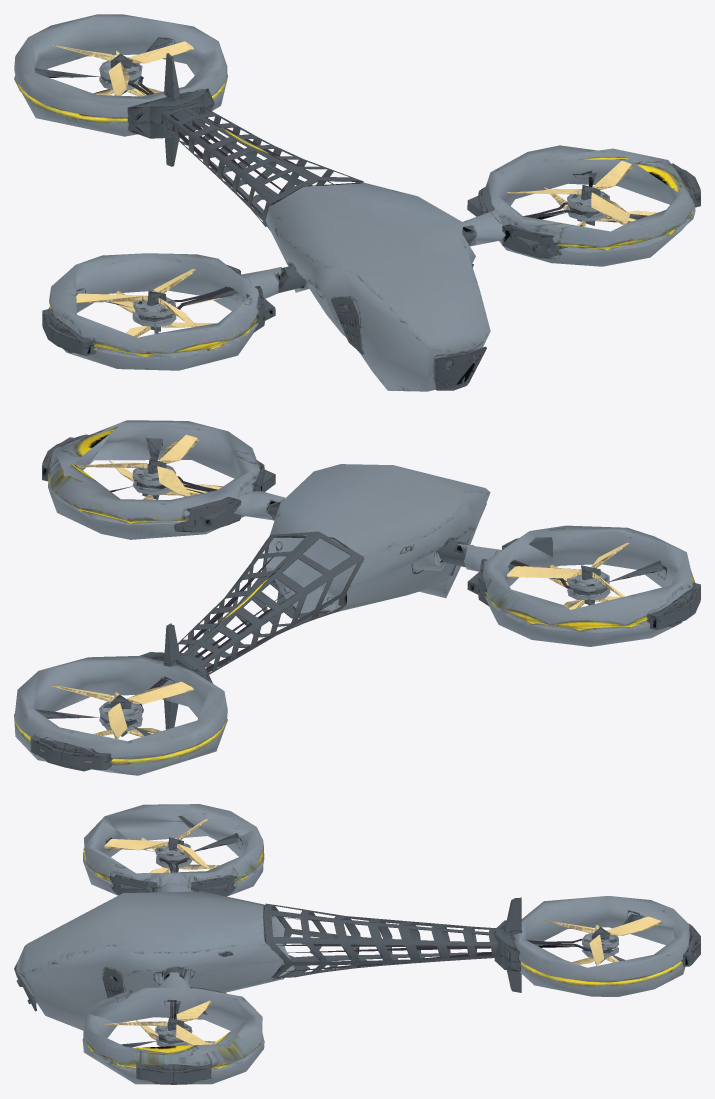
File: aerostat.glb
3 renders of one model, top to bottom at view 1: azimuth 30°, elevation 25°; view 2: azimuth 150°, elevation 25°; view 3: azimuth 270°, elevation 25°, orthographic. The views are drawn at different scales.
Parts seen in each view (by area): view 1: Sci-Fi Surveillance Drone_Sci-Fi Surveillance Drone_0; view 2: Sci-Fi Surveillance Drone_Sci-Fi Surveillance Drone_0; view 3: Sci-Fi Surveillance Drone_Sci-Fi Surveillance Drone_0.
Boxes of the visible parts, bbox=[...] form: Sci-Fi Surveillance Drone_Sci-Fi Surveillance Drone_0: bbox=[14, 14, 700, 391]; Sci-Fi Surveillance Drone_Sci-Fi Surveillance Drone_0: bbox=[14, 420, 700, 775]; Sci-Fi Surveillance Drone_Sci-Fi Surveillance Drone_0: bbox=[14, 804, 700, 1084].
Size of the model in its own units: 11.76 by 2.6 by 12.88.
1 material, 1 textured.
